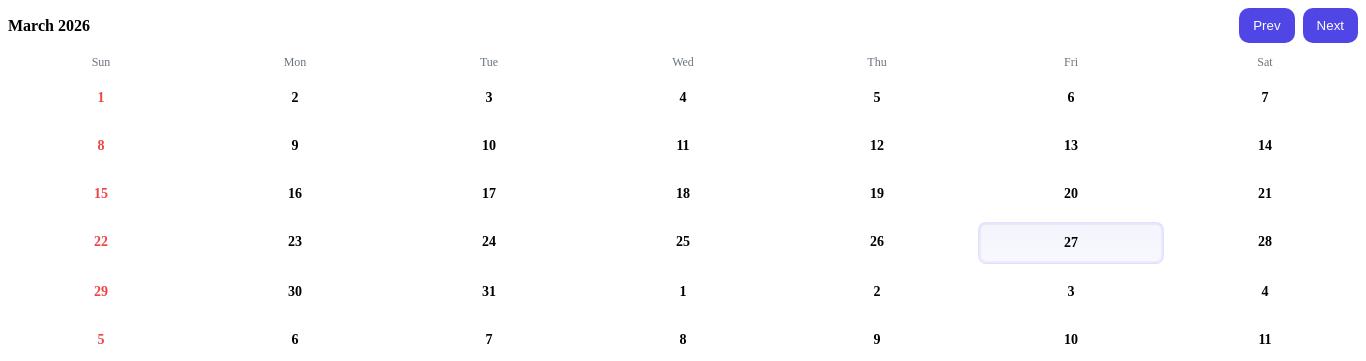
Scenario: ChronosDashboard components › CalendarView highlight classes and navigation functionality
Check: the 1st element with class "sunday" is shown, box [98, 90, 104, 105]
Check: the element with class "today" is shown, box [978, 222, 1164, 264]
Click the button "Next": (1330, 26) [1303, 8, 1358, 43]
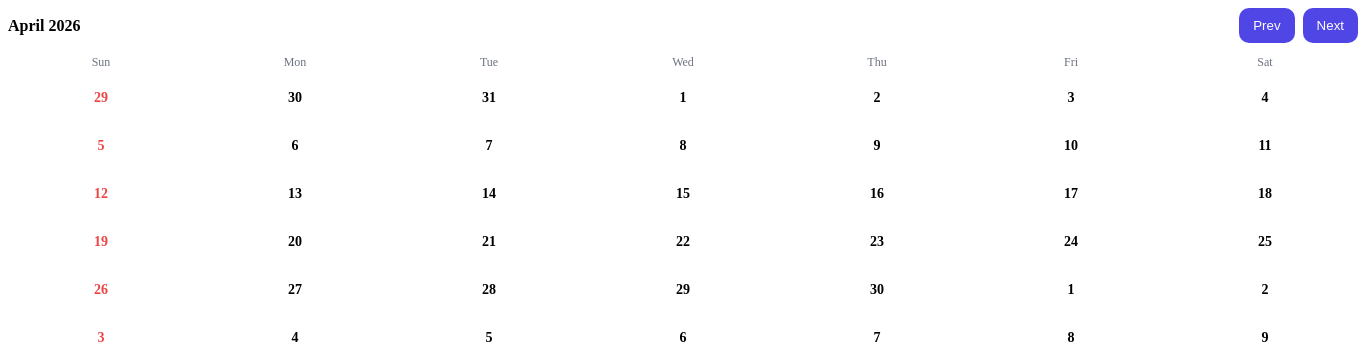
Check: the text "April 2026" is shown, box [8, 16, 80, 34]
Click the button "Prev": (1267, 26) [1239, 8, 1295, 43]
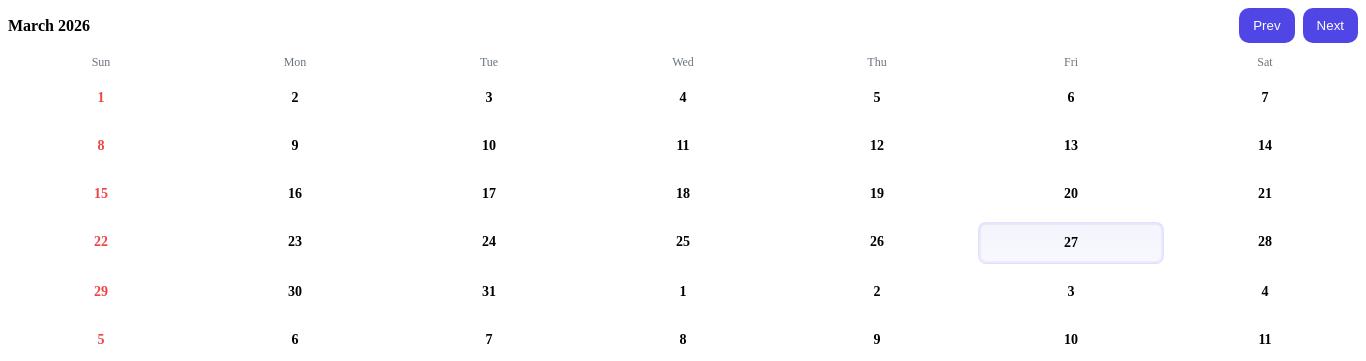
Click the button "Prev": (1267, 26) [1239, 8, 1295, 43]
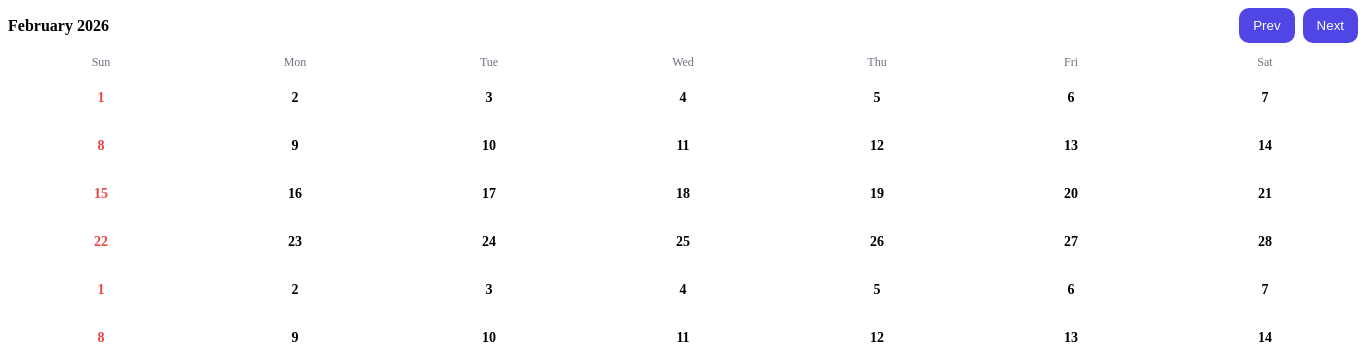
Check: the text "February 2026" is shown, box [8, 16, 109, 34]
